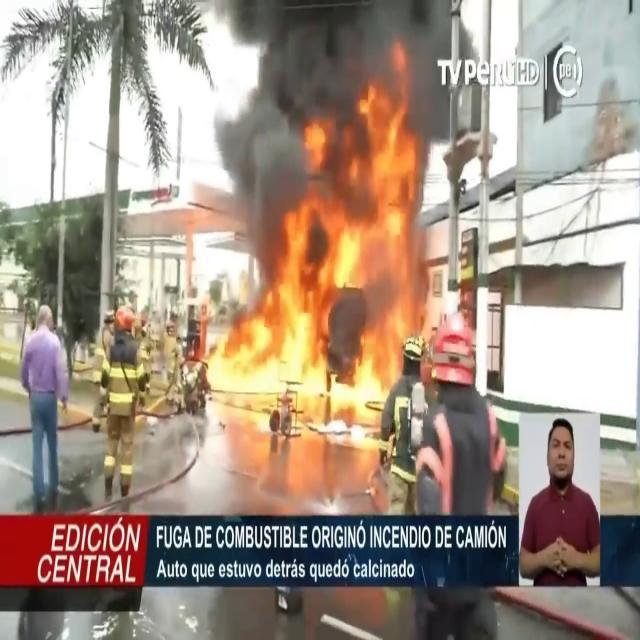Fire: (202, 58, 434, 454)
